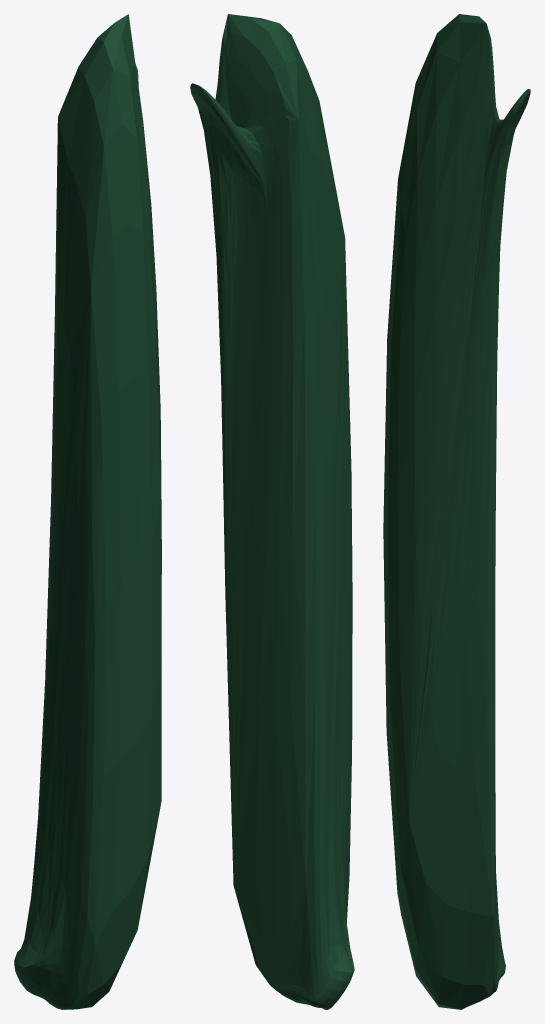
3 renders of one model, left to right at view 1: azimuth 30°, elevation 25°; view 2: azimuth 150°, elevation 25°; view 3: azimuth 270°, elevation 25°, orthographic. The views are drawn at different scales.
Visible parts, largest first — view 1: 208_Cube.861; view 2: 208_Cube.861; view 3: 208_Cube.861.
Boxes of the visible parts, x1,y1,x2,y2 form: 208_Cube.861: [14, 14, 161, 1009]; 208_Cube.861: [190, 14, 354, 1009]; 208_Cube.861: [383, 14, 530, 1009].
Size of the model in its own units: 1.74 by 11.66 by 1.53.
